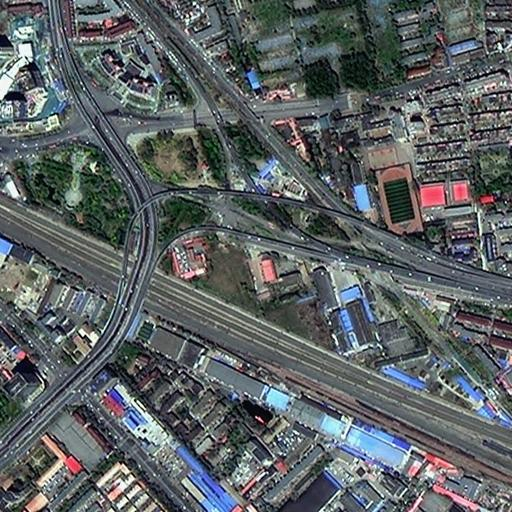school: (336, 108, 421, 240)
